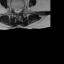CCS_severe_stenosis: (16, 6, 18, 15)
LFS_normal: (20, 6, 22, 13)
LLS_normal: (18, 6, 20, 15)
RFS_normal: (12, 6, 14, 14)
RLS_normal: (14, 6, 16, 14)
